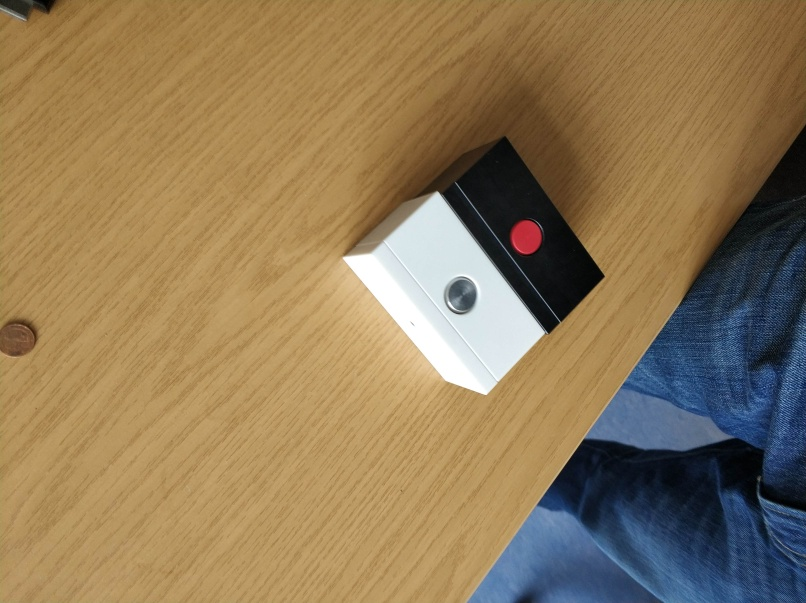black+black+red: (416, 133, 609, 336)
white+white+silver: (338, 189, 551, 399)
